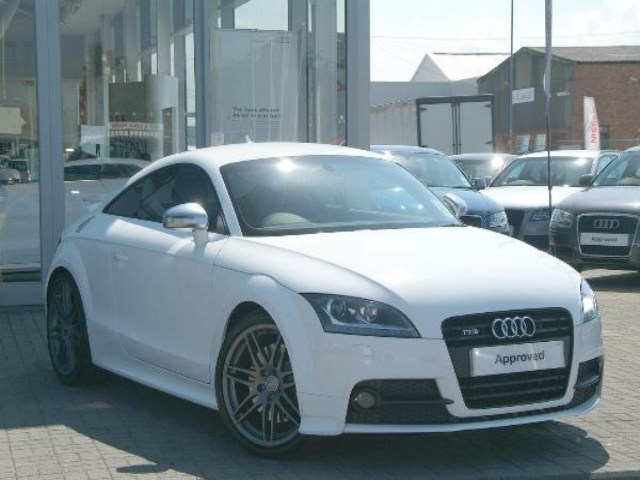Xe_hoi: (45, 139, 609, 464)
